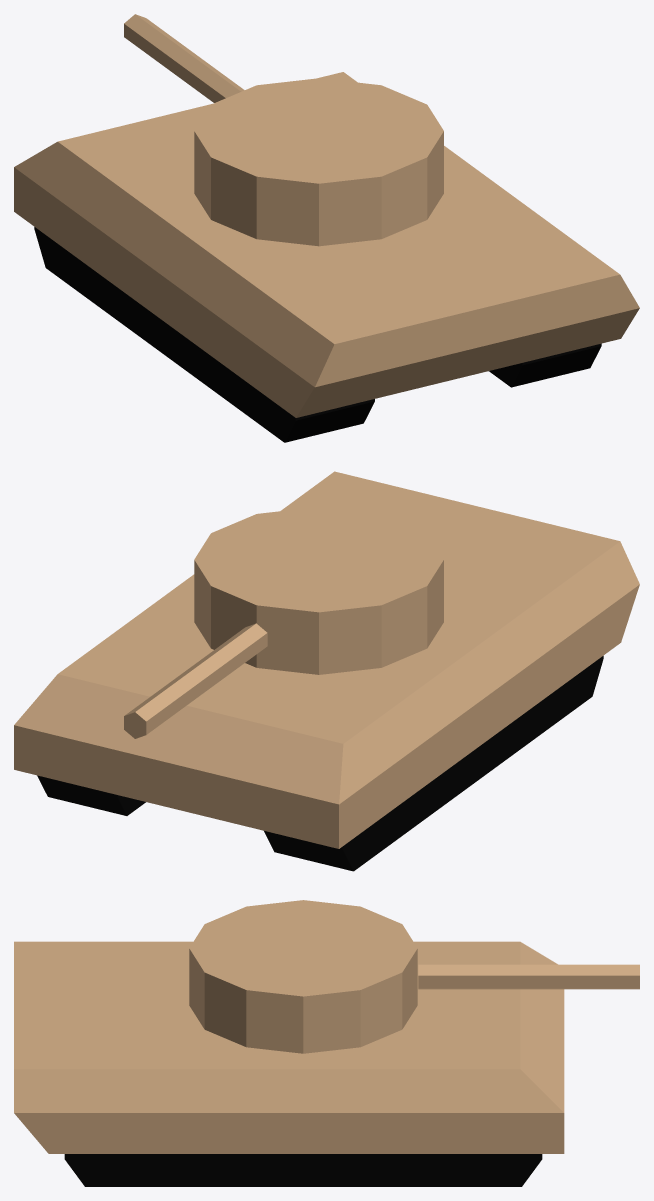
File: tank_tan.glb
The picture shows the model from 3 angles, top to bottom: view 1: azimuth 30°, elevation 25°; view 2: azimuth 150°, elevation 25°; view 3: azimuth 270°, elevation 25°; orthographic projection. The views are drawn at different scales.
Visible parts, largest first — view 1: Gold, Cylinder, Cube.002, Cube.001; view 2: Gold, Cylinder, Cube.002, Cube.001; view 3: Gold, Cylinder, Cube.001.
Part boxes in pixels (box(x1,y1,x2,y2)): Gold: box(14, 72, 639, 417); Cylinder: box(124, 14, 443, 246); Cube.002: box(34, 227, 374, 442); Cube.001: box(489, 343, 601, 387); Gold: box(14, 471, 639, 848); Cylinder: box(124, 507, 443, 738); Cube.002: box(264, 656, 603, 871); Cube.001: box(37, 775, 145, 815); Gold: box(14, 941, 564, 1153); Cylinder: box(189, 900, 639, 1053); Cube.001: box(64, 1154, 542, 1186).
Size of the model in its own units: 10.01 by 5.5 by 18.26.
